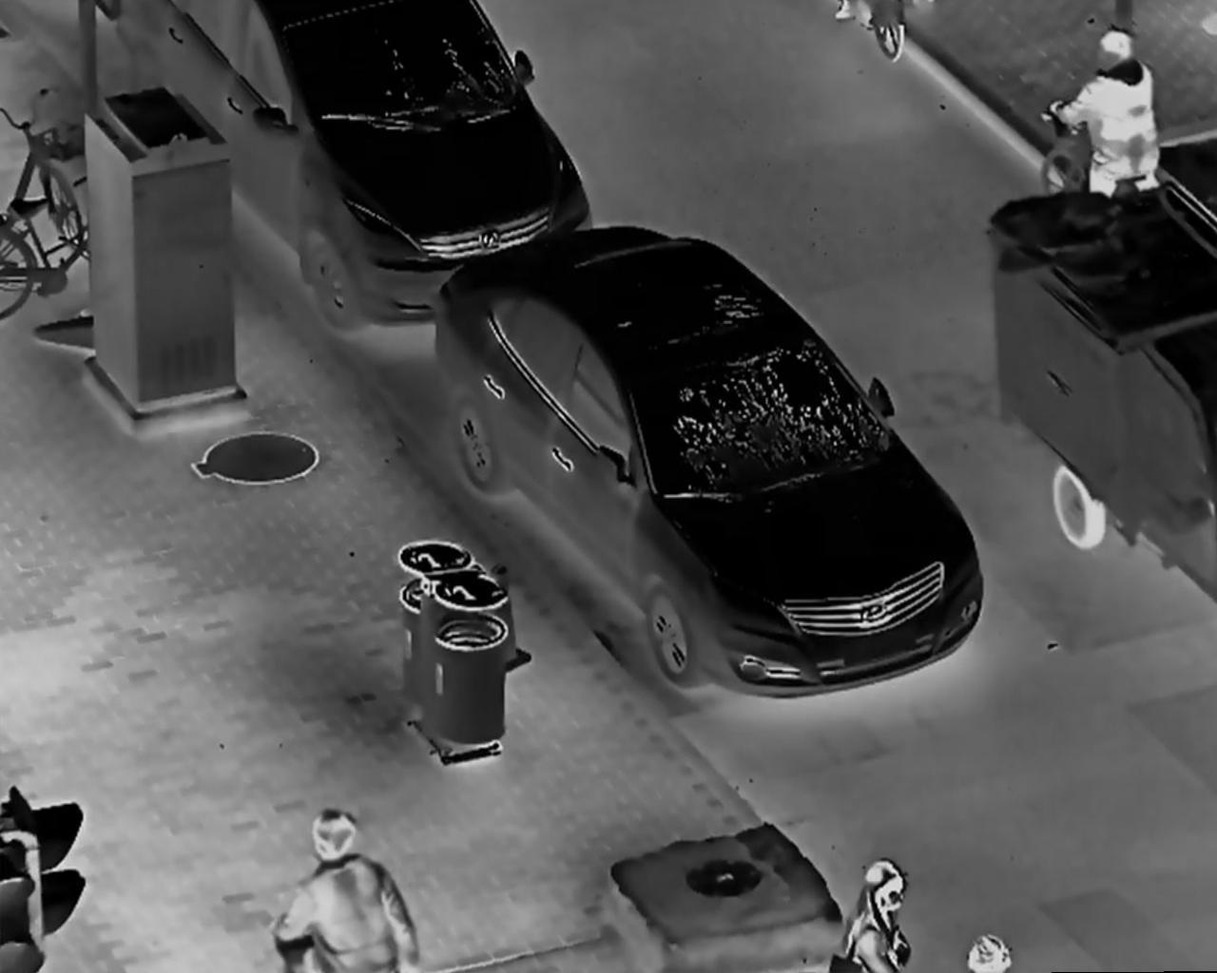person: (269, 809, 423, 973), (1045, 27, 1168, 195), (831, 854, 913, 973)
